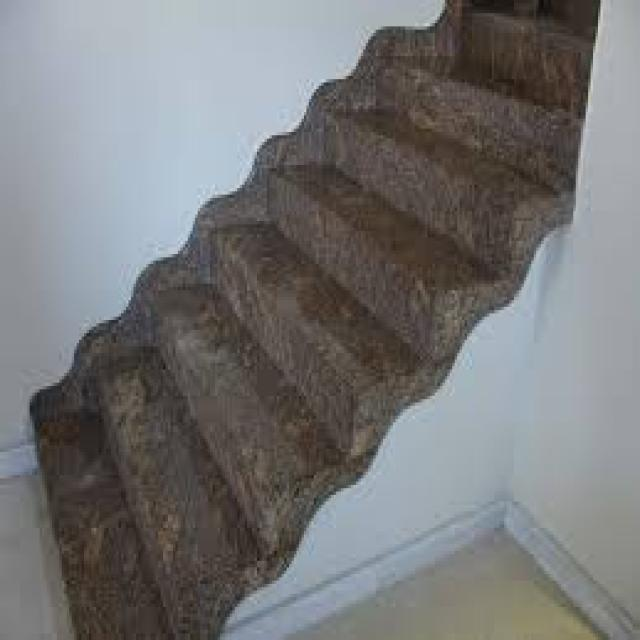stairs: (27, 0, 601, 637)
